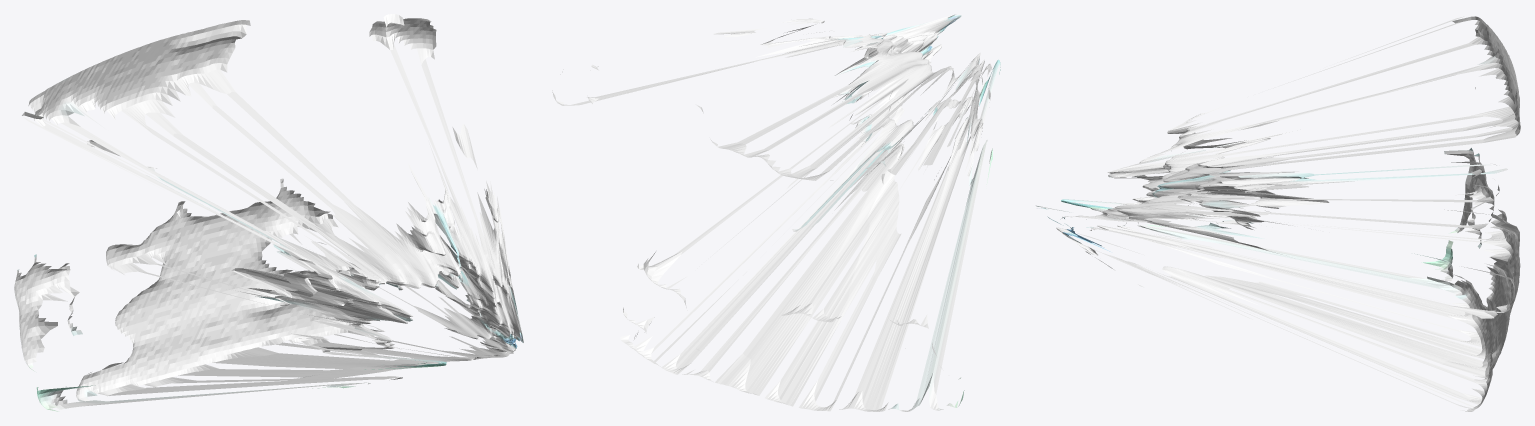
3 views of the same model, side by side, from view 1: azimuth 30°, elevation 25°; view 2: azimuth 150°, elevation 25°; view 3: azimuth 270°, elevation 25° (orthographic). The views are drawn at different scales.
Visible parts, largest first — view 1: defaultobject; view 2: defaultobject; view 3: defaultobject.
Boxes of the visible parts, bbox=[...] form: defaultobject: bbox=[14, 14, 523, 411]; defaultobject: bbox=[552, 14, 1000, 411]; defaultobject: bbox=[1036, 16, 1520, 411].
Size of the model in its own units: 38.11 by 27.3 by 44.02.
1 material, 1 textured.
